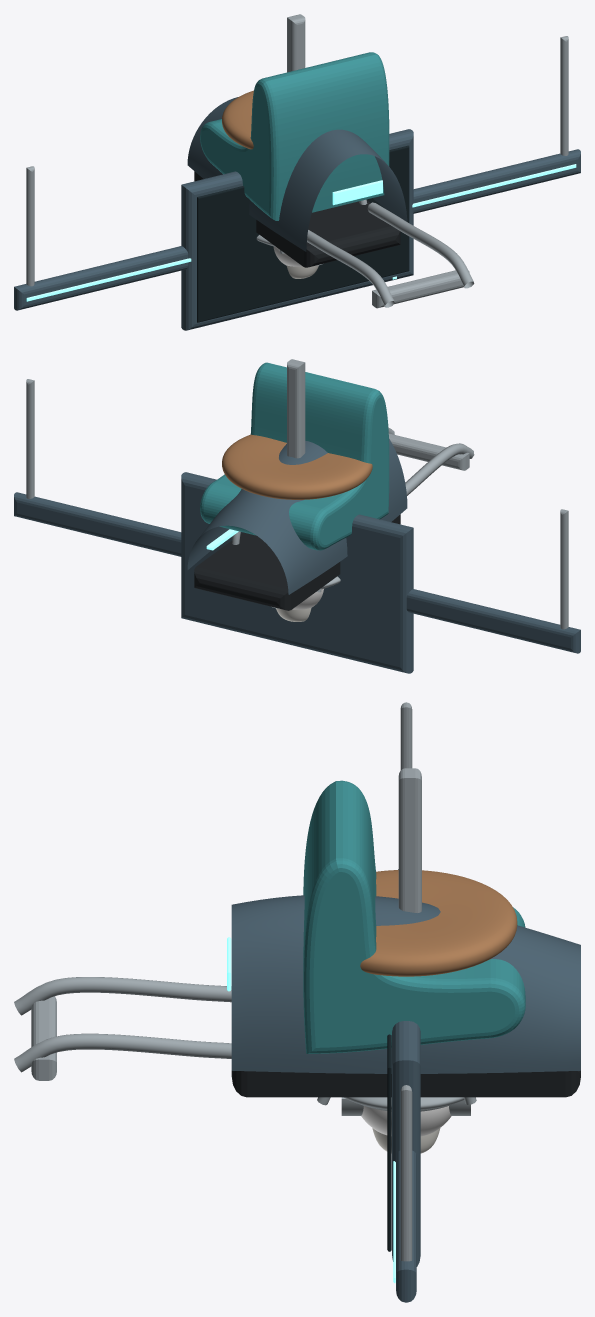
Rendered from bowling-kit.glb.
3 renders of one model, top to bottom at view 1: azimuth 30°, elevation 25°; view 2: azimuth 150°, elevation 25°; view 3: azimuth 270°, elevation 25°, orthographic. The views are drawn at different scales.
Parts seen in each view (by area): view 1: monitor, chair, return, sweep, table; view 2: monitor, return, chair, sweep, table; view 3: return, chair, table, monitor, sweep, ball.
Part boxes in pixels (<box>): monitor: <box>181,14,413,330</box>; chair: <box>200,52,389,253</box>; return: <box>187,97,474,308</box>; sweep: <box>14,36,580,310</box>; table: <box>222,90,274,245</box>; monitor: <box>181,359,413,673</box>; return: <box>187,427,474,610</box>; chair: <box>200,362,389,592</box>; sweep: <box>14,379,580,653</box>; table: <box>222,434,372,588</box>; return: <box>14,895,580,1097</box>; chair: <box>303,780,525,1105</box>; table: <box>344,870,517,1109</box>; monitor: <box>387,768,421,1266</box>; sweep: <box>393,702,416,1302</box>; ball: <box>361,1106,451,1136</box>.
Size of the model in its own units: 7.4 by 3.55 by 4.38.
